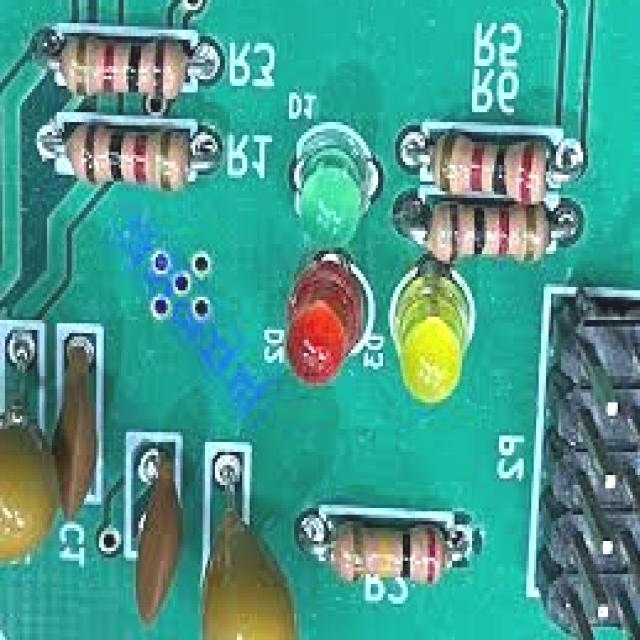ceramic capacitor: (119, 434, 198, 622), (50, 326, 118, 526)
led: (379, 264, 482, 408), (274, 258, 374, 396), (287, 110, 379, 258)
resistor: (318, 516, 478, 600), (416, 118, 547, 203), (54, 37, 210, 101), (416, 198, 550, 270), (54, 124, 200, 189)
